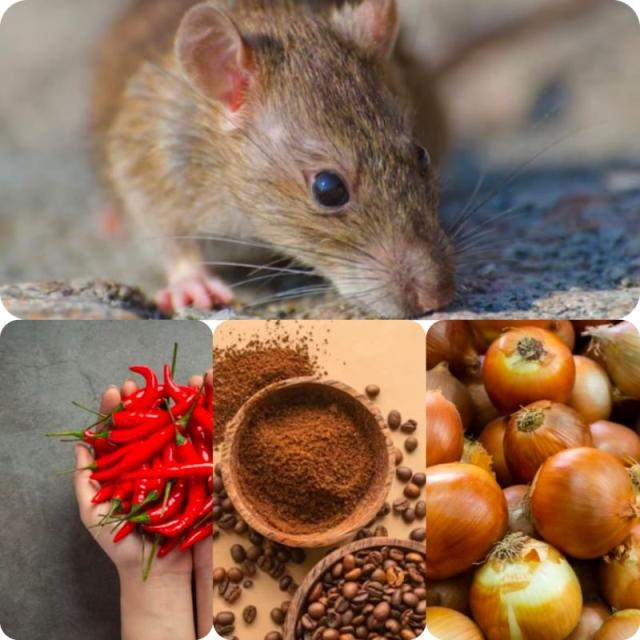rat: (89, 0, 496, 321)
